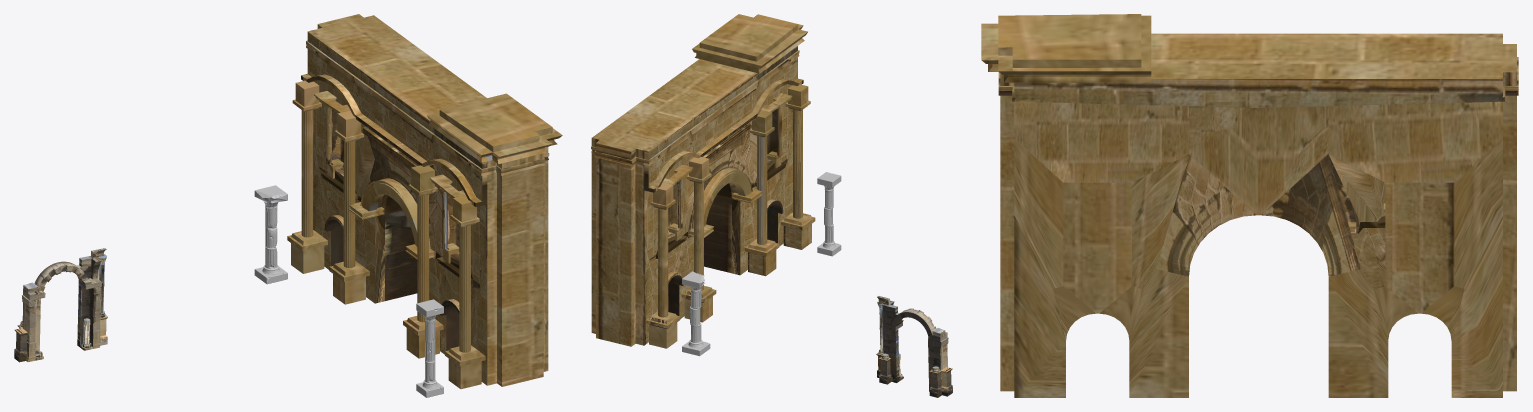
Rendered from timgad.gltf.
3 views of the same model, side by side, from view 1: azimuth 30°, elevation 25°; view 2: azimuth 150°, elevation 25°; view 3: azimuth 270°, elevation 25° (orthographic). The views are drawn at different scales.
Visible parts, largest first — view 1: Cube, Cylinder, Cube.007, G-__555564, Cube.001, Cube.002, Cube.018, Cube.006, Cube.016, Cube.003, Cube.005, Cylinder.001; view 2: Cube, Cylinder, Cube.007, G-__555564, Cube.001, Cube.002, Cube.018, Cube.016, Cube.006, Cube.003, Cube.005, Cylinder.001; view 3: Cube, Cube.007.
Part boxes in pixels (box(x1,y1,x2,y2)): Cube: box(301, 14, 549, 386); Cylinder: box(301, 110, 470, 352); Cube.007: box(427, 93, 562, 164); G-__555564: box(14, 248, 107, 362); Cube.001: box(287, 230, 485, 389); Cube.002: box(292, 80, 479, 227); Cube.018: box(254, 185, 287, 284); Cube.006: box(360, 178, 430, 249); Cube.016: box(416, 299, 443, 397); Cube.003: box(325, 159, 471, 266); Cube.005: box(314, 91, 465, 197); Cylinder.001: box(326, 107, 447, 248); Cube: box(591, 46, 803, 346); Cylinder: box(658, 109, 802, 317); Cube.007: box(692, 14, 807, 73); G-__555564: box(876, 296, 952, 397); Cube.001: box(645, 212, 815, 348); Cube.002: box(650, 84, 810, 209); Cube.018: box(682, 271, 710, 356); Cube.016: box(817, 172, 841, 256); Cube.006: box(692, 168, 752, 228); Cube.003: box(668, 151, 782, 240); Cube.005: box(662, 93, 792, 184); Cylinder.001: box(678, 107, 781, 228); Cube: box(998, 33, 1518, 397); Cube.007: box(981, 14, 1151, 82).
Size of the model in its own units: 35.34 by 20.82 by 29.62.
